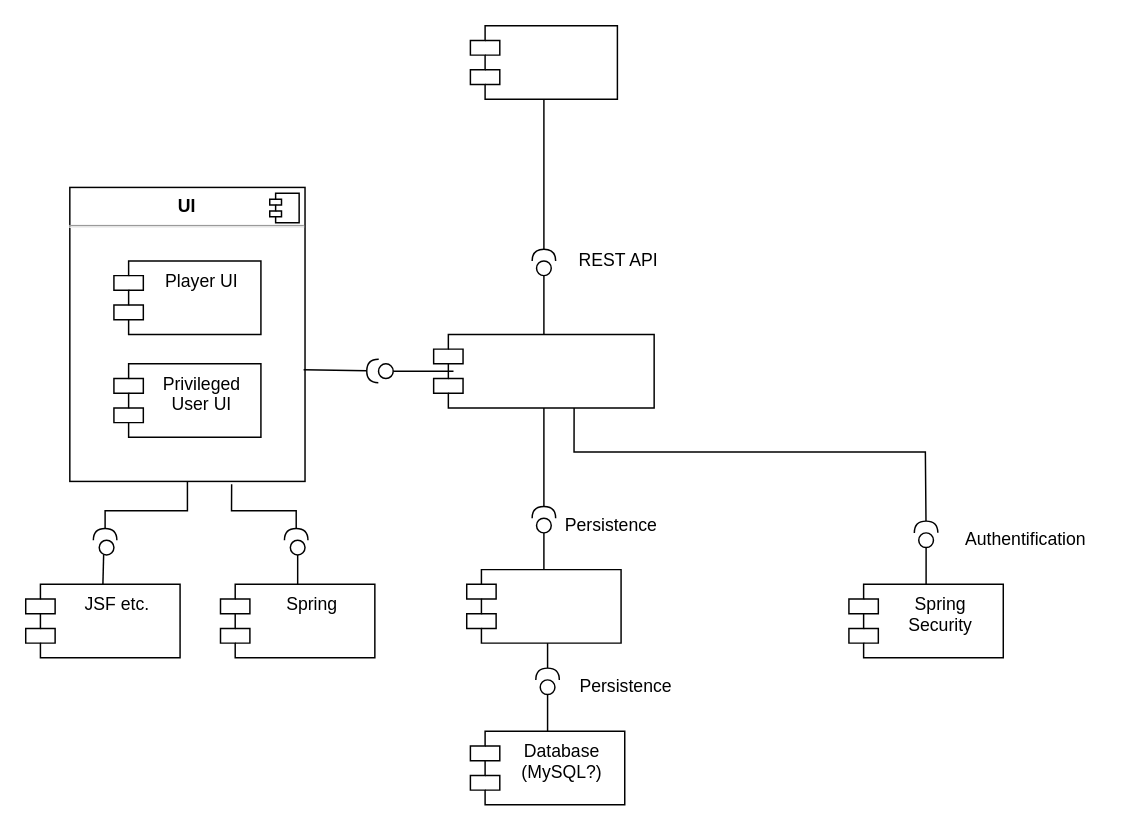
Some shapes in this 1125 by 831 pixel diagram are drawn without their labels. The box of each missing label's shape, as (x1, y1, x2, y2) in pixels:
Cube: (469, 24, 617, 99)
God Component :): (432, 333, 654, 408)
JPA / Spring Data: (465, 568, 621, 643)
